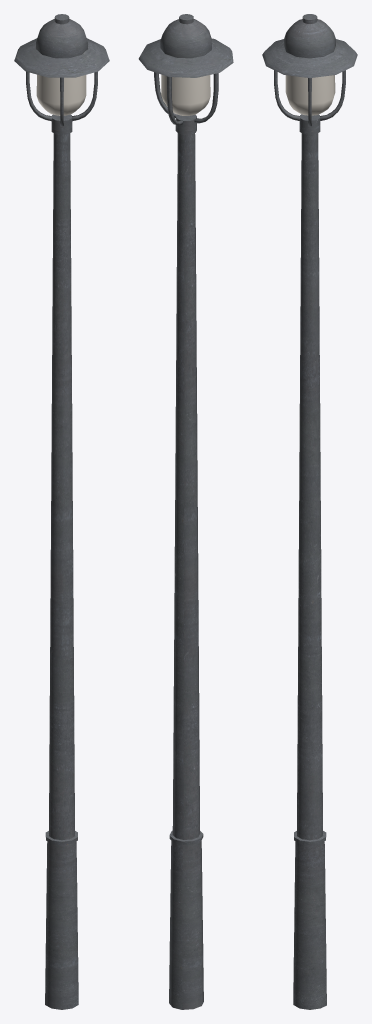
The model's file is Lamp_Post.fbx.
3 renders of one model, left to right at view 1: azimuth 90°, elevation 25°; view 2: azimuth 150°, elevation 25°; view 3: azimuth 270°, elevation 25°, orthographic.
Visible parts, largest first — view 1: Lamp_Post, Lamp_Post_Bulb; view 2: Lamp_Post, Lamp_Post_Bulb; view 3: Lamp_Post, Lamp_Post_Bulb.
Part boxes in pixels (left/top/right/bottom): Lamp_Post: left=14, top=14, right=109, bottom=1009; Lamp_Post_Bulb: left=36, top=74, right=86, bottom=115; Lamp_Post: left=138, top=14, right=233, bottom=1009; Lamp_Post_Bulb: left=161, top=74, right=210, bottom=115; Lamp_Post: left=262, top=14, right=357, bottom=1009; Lamp_Post_Bulb: left=285, top=75, right=335, bottom=115.
Size of the model in its own units: 0.5426 by 6.24 by 0.5482.
2 materials, 1 textured.
